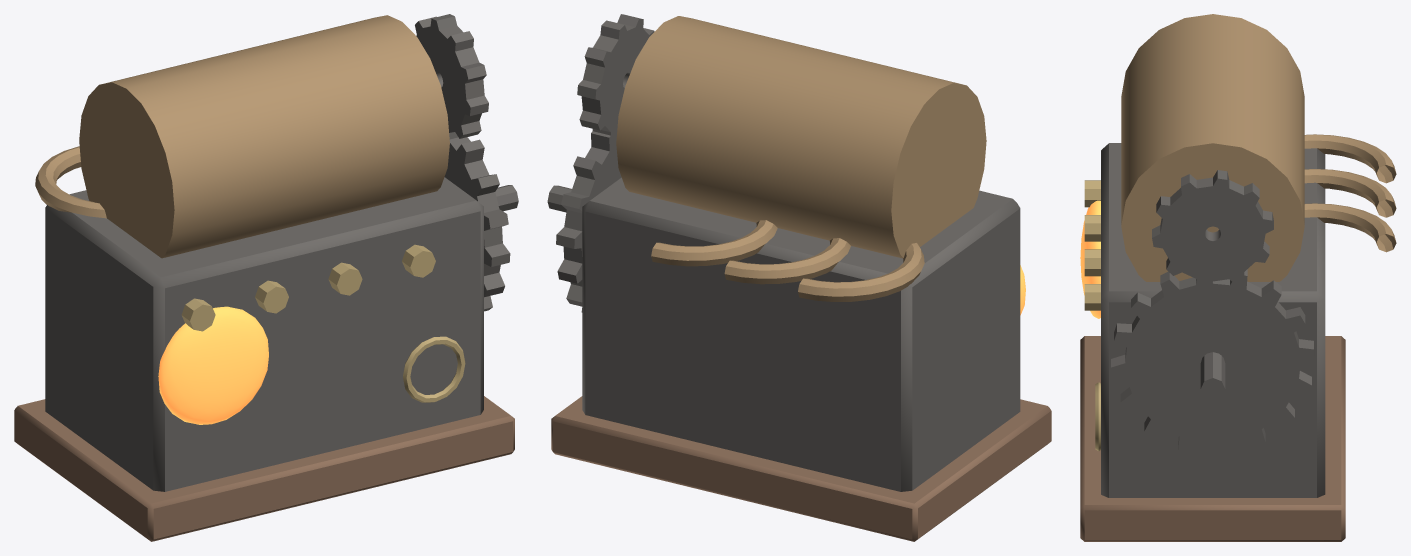
File: unknown-machine-v01.glb
3 renders of one model, left to right at view 1: azimuth 30°, elevation 25°; view 2: azimuth 150°, elevation 25°; view 3: azimuth 270°, elevation 25°, orthographic. The views are drawn at different scales.
Visible parts, largest first — view 1: unknown-machine; view 2: unknown-machine; view 3: unknown-machine.
Part boxes in pixels (box(x1,y1,x2,y2)): unknown-machine: box(14, 14, 518, 541); unknown-machine: box(547, 14, 1051, 541); unknown-machine: box(1080, 14, 1396, 541).
Size of the model in its own units: 2.35 by 2.05 by 1.55.
